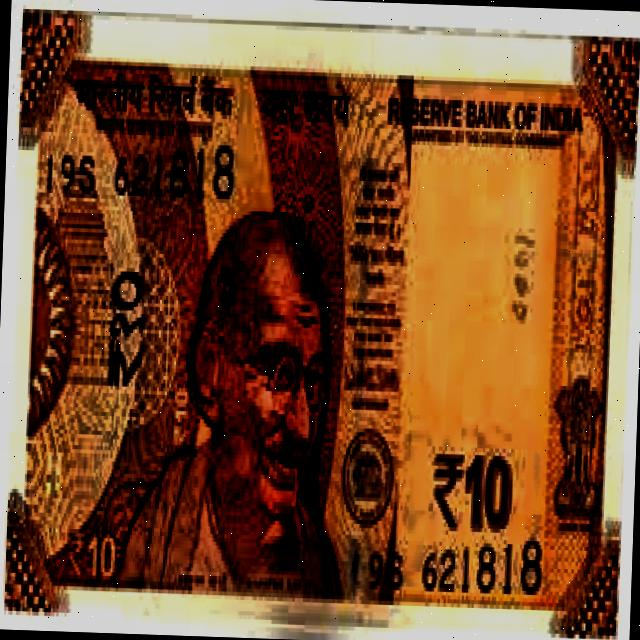-10-: (6, 0, 640, 605)
